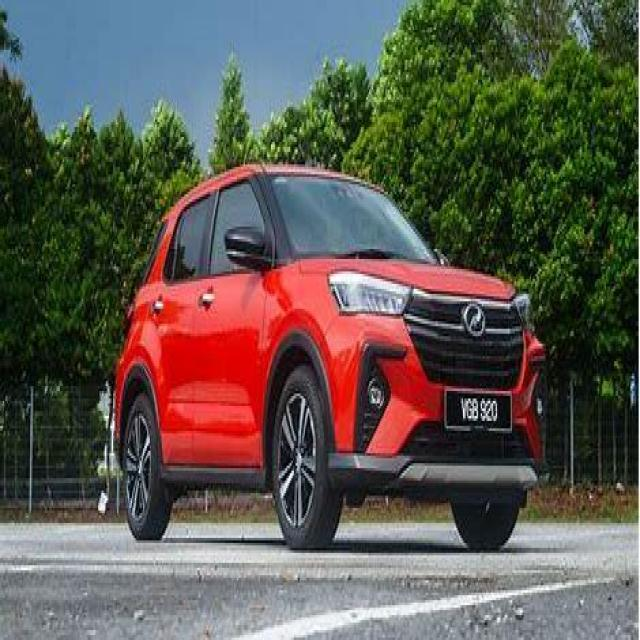PeroduaAtiva: (107, 160, 548, 551)
